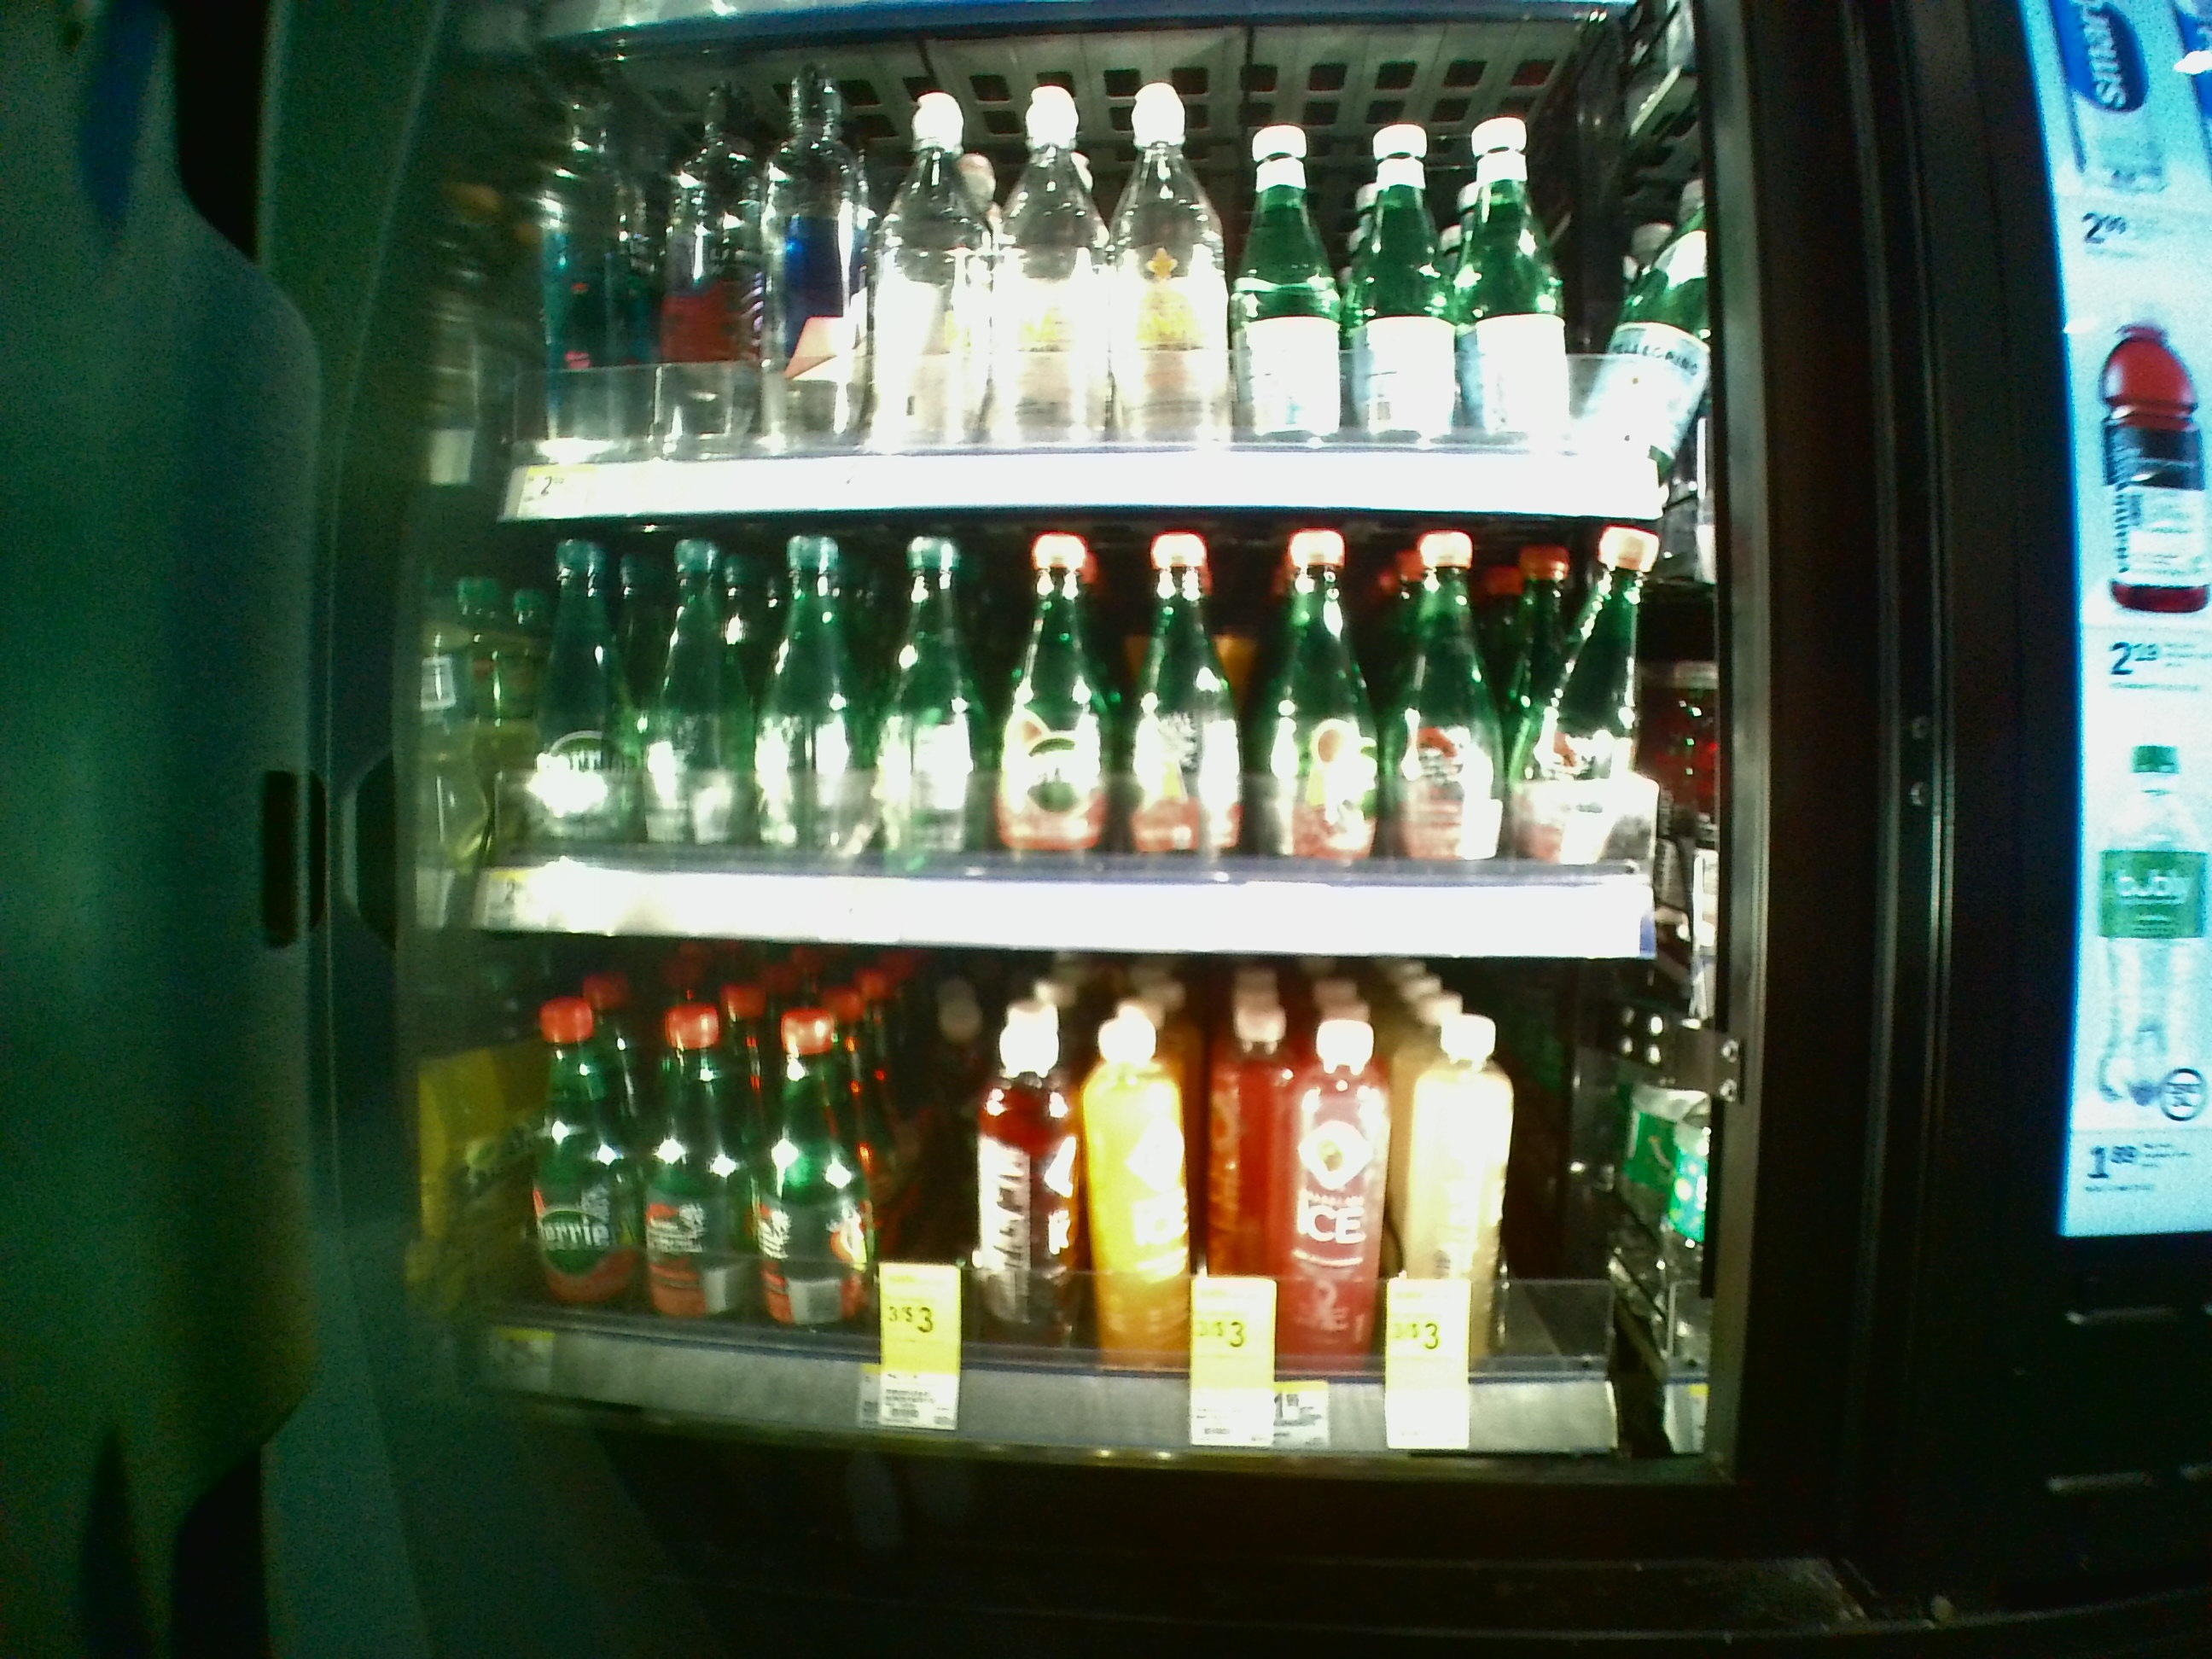shelf: (477, 958, 1686, 1469), (474, 516, 1676, 962)
